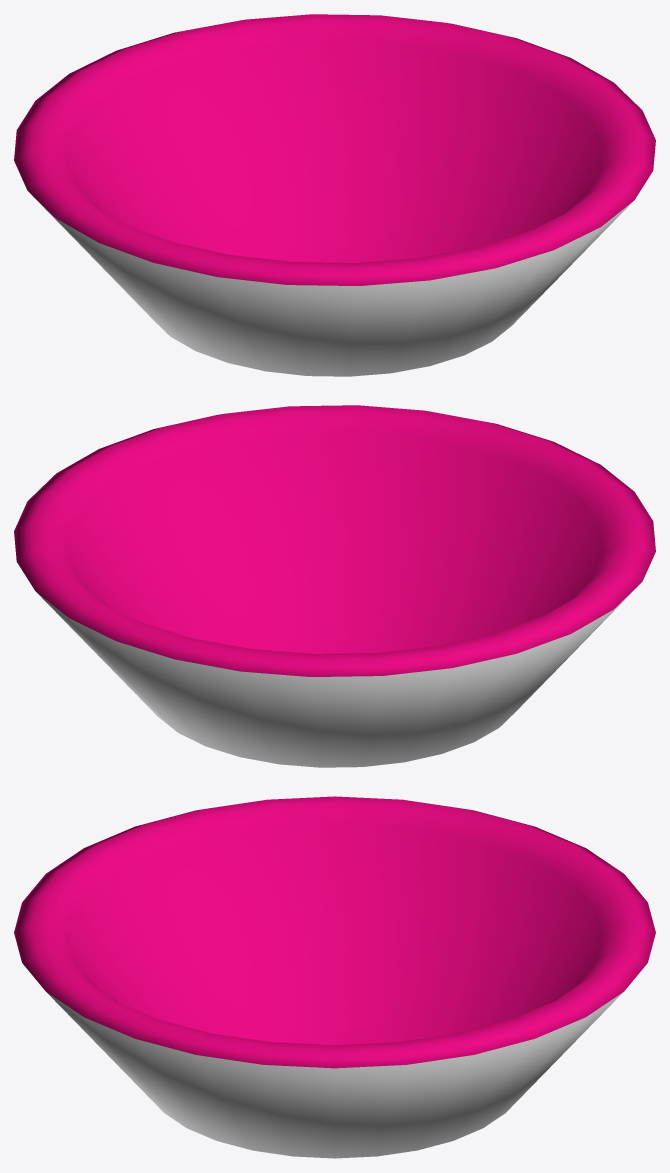
The model's file is Magenta_bowl.fbx.
The picture shows the model from 3 angles, top to bottom: view 1: azimuth 30°, elevation 25°; view 2: azimuth 150°, elevation 25°; view 3: azimuth 270°, elevation 25°; orthographic projection.
Visible parts, largest first — view 1: Magenta_bowl; view 2: Magenta_bowl; view 3: Magenta_bowl.
Boxes of the visible parts, x1=… form: Magenta_bowl: x1=14, y1=14, x2=655, y2=376; Magenta_bowl: x1=14, y1=405, x2=655, y2=767; Magenta_bowl: x1=14, y1=796, x2=655, y2=1158.
Bounding box in the file's own units: 0.127 × 0.0363 × 0.127.
2 materials, 1 textured.
